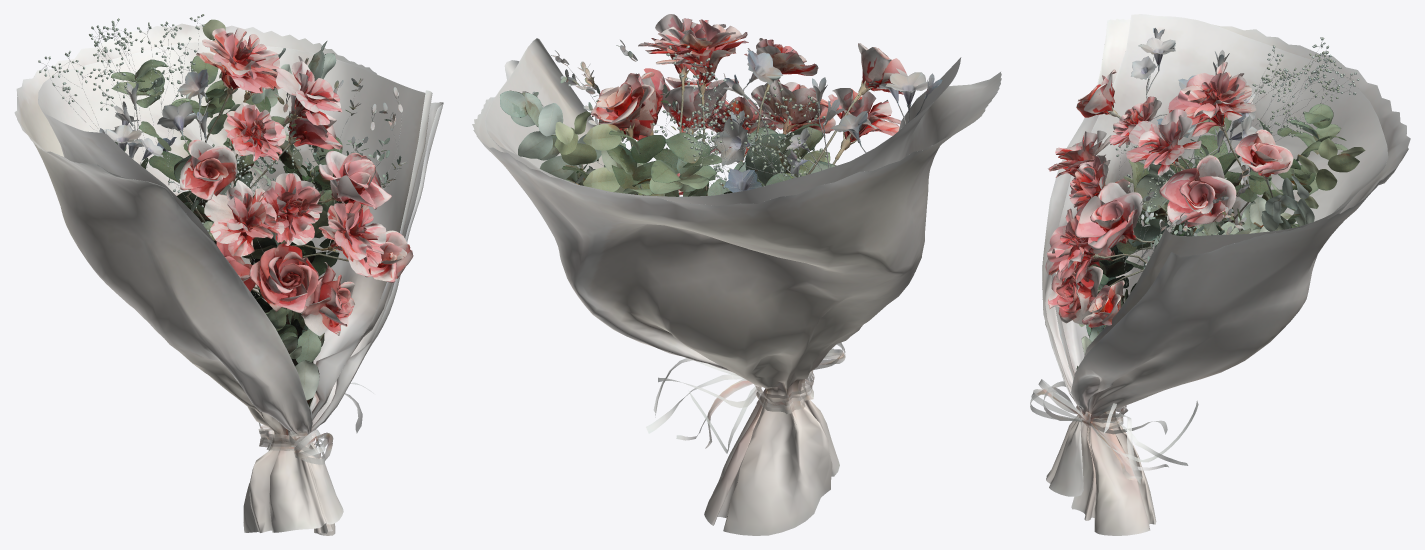
File: SM_BuquetA_v1.1.fbx
The picture shows the model from 3 angles, left to right: view 1: azimuth 30°, elevation 25°; view 2: azimuth 150°, elevation 25°; view 3: azimuth 270°, elevation 25°; orthographic projection. The views are drawn at different scales.
Parts seen in each view (by area): view 1: outer, inner, petal_001, petal_006, petal_008, smallplantC_petals, petal_010, petal_002, petal_012, leaf_001, petal_007, petal_014 (+20 smaller); view 2: outer, inner, leaf_007, smallplantC_petals, leaf_001, petal_006, ribbon, petal_002, petal_012, petal_009, petal_001, leaf_004 (+13 smaller); view 3: outer, inner, petal_005, petal_006, ribbon, leaf_007, petal_012, petal_011, leaf_006, petal_010, smallplantC_petals, leaf_001 (+17 smaller).
Boxes of the visible parts, left/top/right/bottom form: outer: left=14, top=23, right=443, bottom=535; inner: left=38, top=42, right=432, bottom=436; petal_001: left=204, top=180, right=284, bottom=256; petal_006: left=196, top=28, right=280, bottom=93; petal_008: left=249, top=243, right=319, bottom=313; smallplantC_petals: left=99, top=69, right=208, bottom=160; petal_010: left=318, top=201, right=386, bottom=276; petal_002: left=261, top=172, right=322, bottom=245; petal_012: left=318, top=151, right=391, bottom=209; leaf_001: left=111, top=55, right=235, bottom=118; petal_007: left=223, top=102, right=285, bottom=161; petal_014: left=180, top=139, right=237, bottom=200; outer: left=472, top=60, right=1001, bottom=535; inner: left=485, top=38, right=961, bottom=206; leaf_007: left=518, top=103, right=715, bottom=196; smallplantC_petals: left=713, top=50, right=942, bottom=192; leaf_001: left=606, top=130, right=721, bottom=195; petal_006: left=648, top=19, right=748, bottom=85; ribbon: left=646, top=342, right=845, bottom=453; petal_002: left=751, top=79, right=835, bottom=133; petal_012: left=662, top=73, right=738, bottom=132; petal_009: left=591, top=73, right=654, bottom=130; petal_001: left=812, top=88, right=900, bottom=141; leaf_004: left=723, top=123, right=819, bottom=193; outer: left=1042, top=18, right=1410, bottom=535; inner: left=1051, top=14, right=1388, bottom=380; petal_005: left=1159, top=155, right=1236, bottom=226; petal_006: left=1168, top=61, right=1256, bottom=136; ribbon: left=1030, top=379, right=1198, bottom=483; leaf_007: left=1235, top=138, right=1365, bottom=226; petal_012: left=1074, top=182, right=1142, bottom=249; petal_011: left=1126, top=109, right=1201, bottom=175; leaf_006: left=1116, top=160, right=1207, bottom=254; petal_010: left=1045, top=208, right=1103, bottom=284; smallplantC_petals: left=1130, top=28, right=1257, bottom=172; leaf_001: left=1278, top=103, right=1347, bottom=194.
Size of the model in its own units: 58.16 by 64.26 by 49.83.
